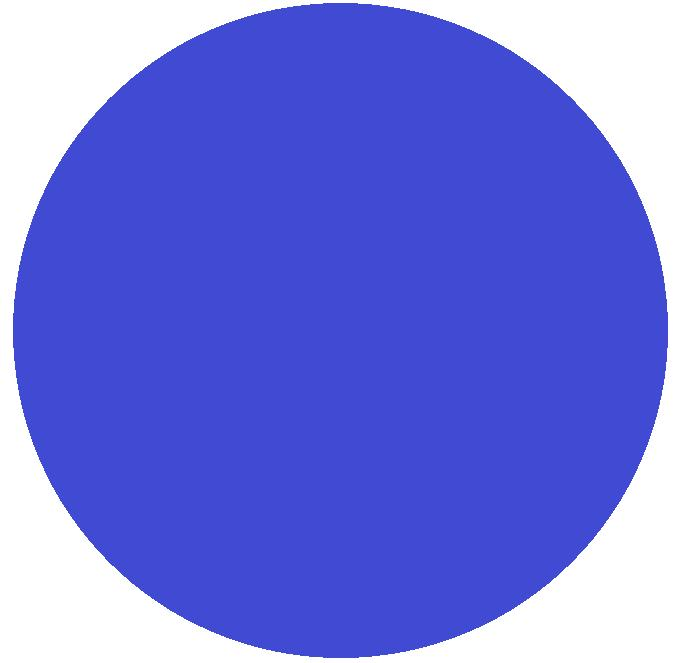blue_circle: (2, 0, 682, 663)
